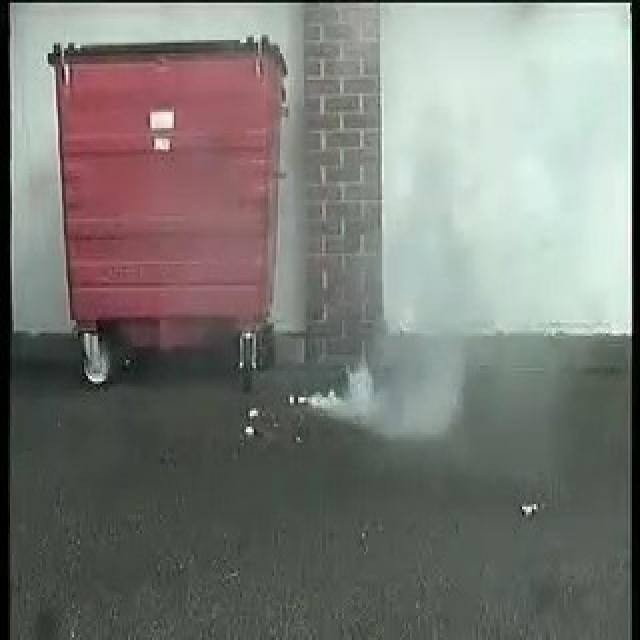smoke: (307, 268, 474, 438)
